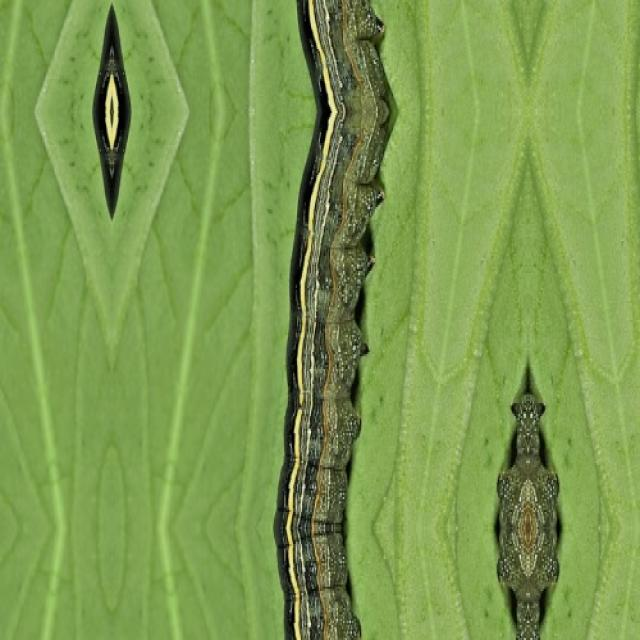armyworm: (273, 0, 392, 638), (494, 358, 561, 638), (91, 0, 130, 220)
